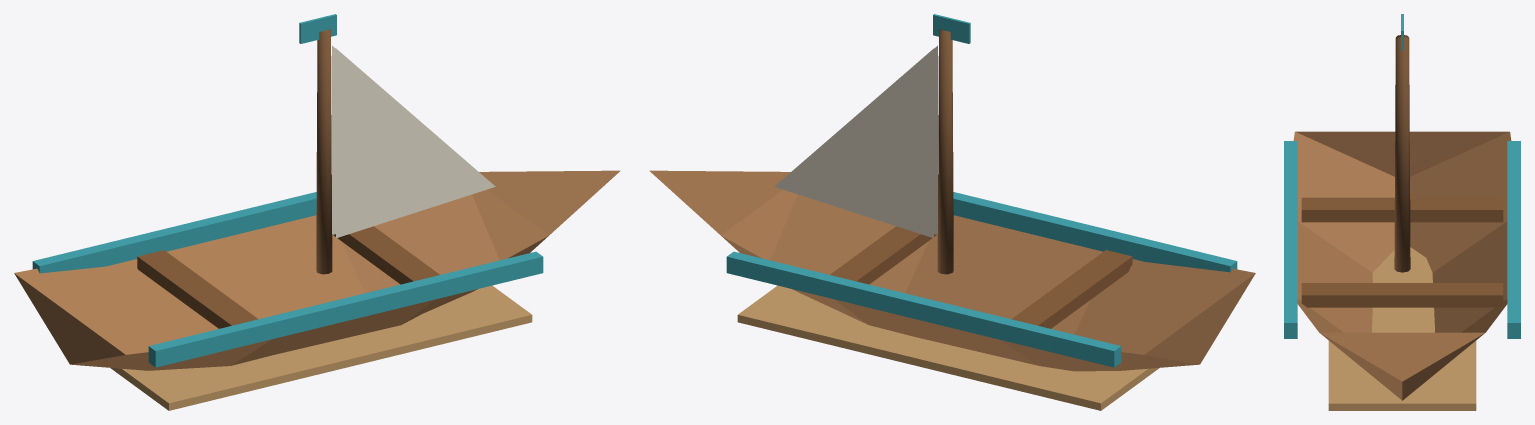
Rendered from xy_landmark_boat.glb.
3 renders of one model, left to right at view 1: azimuth 30°, elevation 25°; view 2: azimuth 150°, elevation 25°; view 3: azimuth 270°, elevation 25°, orthographic. The views are drawn at different scales.
Parts seen in each view (by area): view 1: xy_landmark_boat; view 2: xy_landmark_boat; view 3: xy_landmark_boat.
Boxes of the visible parts, x1,y1,x2,y2 form: xy_landmark_boat: (14,14,620,410); xy_landmark_boat: (649,14,1255,410); xy_landmark_boat: (1284,14,1520,410).
Size of the model in its own units: 4.55 by 2.64 by 1.76.
